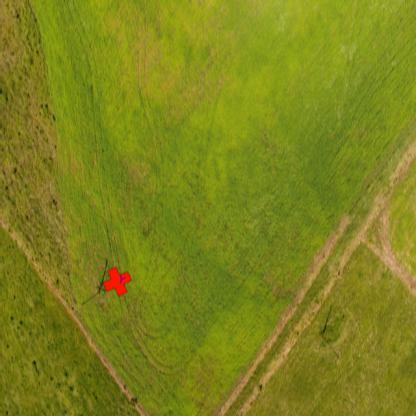Y: (118, 273, 127, 285)
plus: (102, 267, 132, 297)
